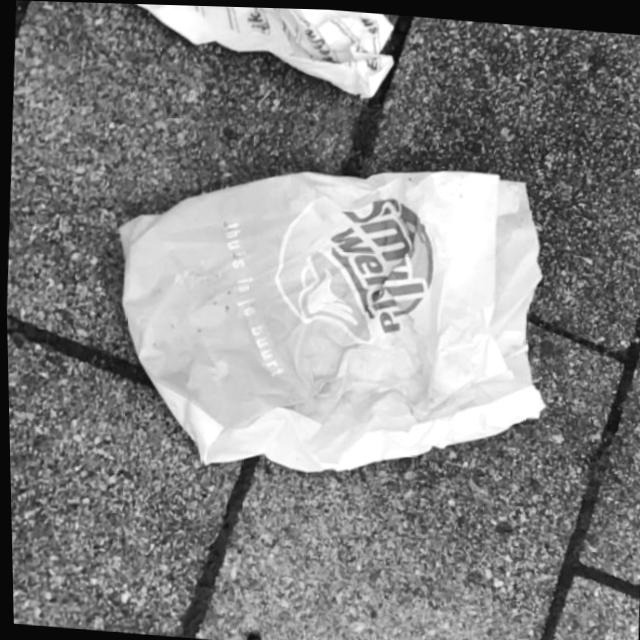Paper: (101, 141, 561, 496), (91, 2, 397, 100)
